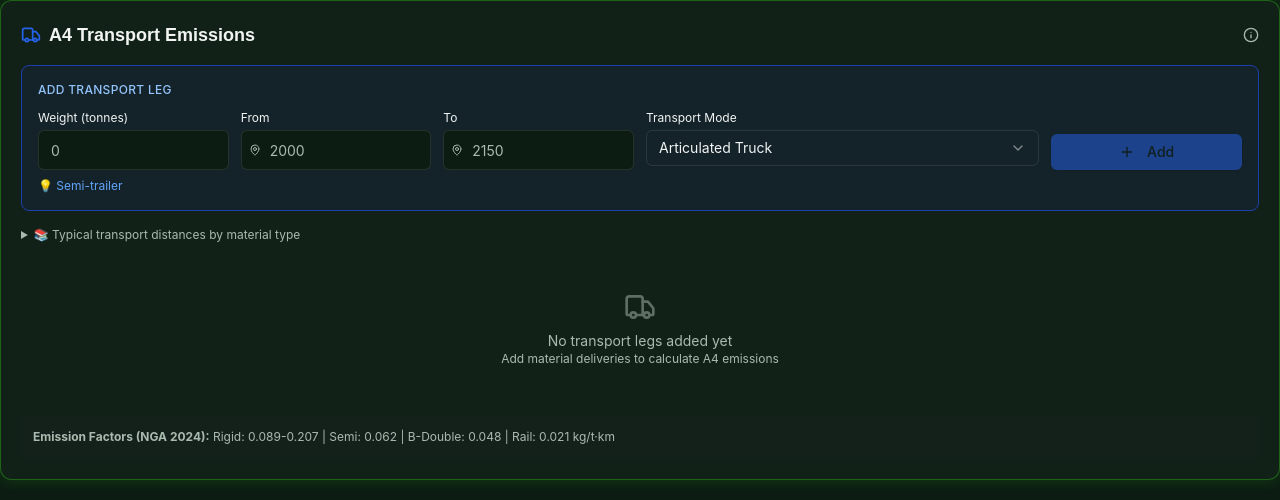
Test: TransportCalculator › Form Validation › should enable Add button when weight is entered
Type "10" into the number field with placeholder "0" at (133, 150), box [38, 130, 229, 170]
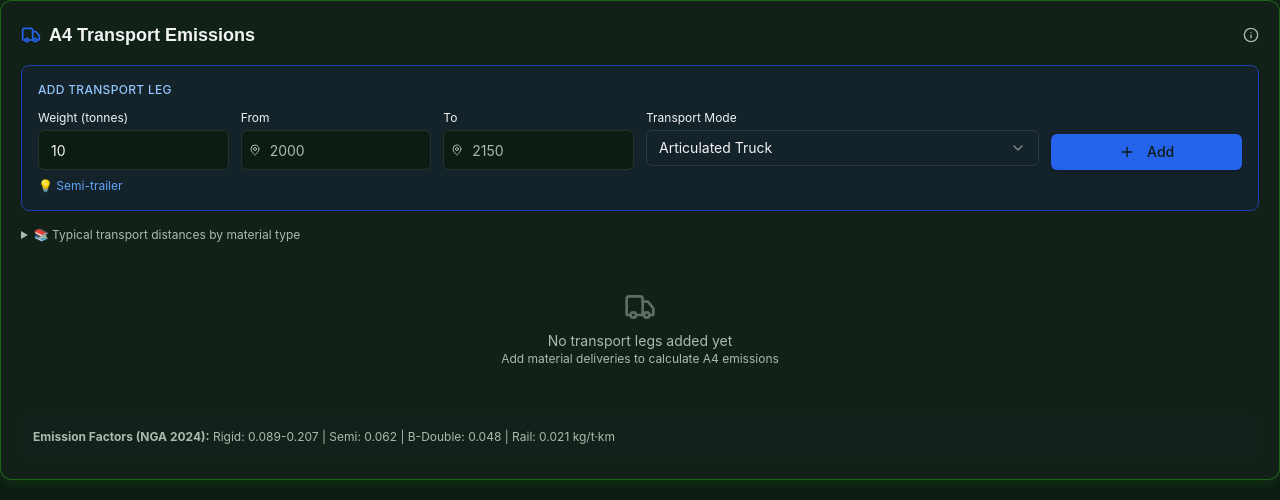
expect the button "Add" is enabled: met, box [1051, 134, 1242, 170]
